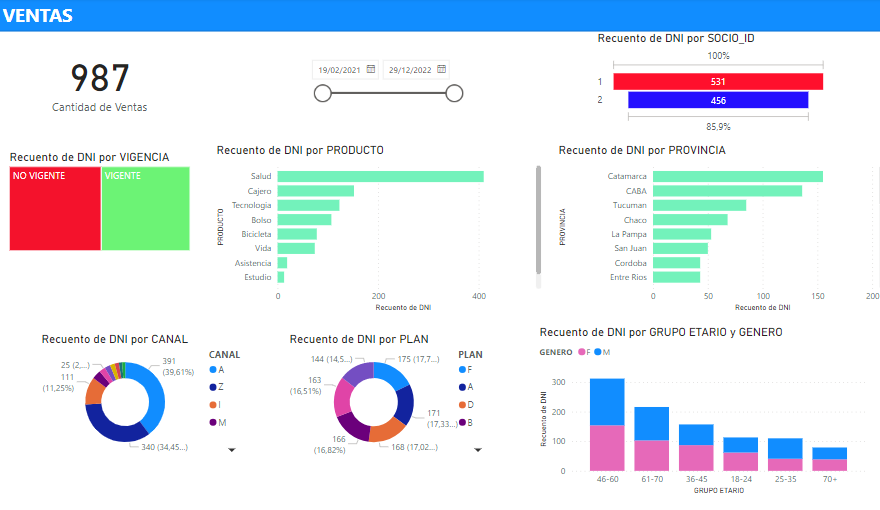

The dashboard page shown, as its layout file describes it:
{"tool":"powerbi","page":{"name":"Venta","canvas":[1280,720],"ordinal":0},"visuals":[{"type":"card","fields":{"Values":["CountNonNull(VENTA.DNI)"]},"box":[10.1,0,270.4,129.3],"z":0},{"type":"funnel","fields":{"Category":["VENTA.SOCIO_ID"],"Y":["CountNonNull(VENTA.DNI)"]},"box":[476.6,13,275,142.6],"z":1},{"type":"treemap","fields":{"Group":["VENTA.VIGENCIA"],"Values":["CountNonNull(VENTA.DNI)"]},"box":[10,218.5,270,150],"z":2},{"type":"donutChart","fields":{"Category":["VENTA.CANAL"],"Y":["CountNonNull(VENTA.DNI)"]},"box":[51.8,470.9,270.7,151.2],"z":3},{"type":"donutChart","fields":{"Category":["VENTA.PLAN"],"Y":["CountNonNull(VENTA.DNI)"]},"box":[380.2,470.9,270.7,151.2],"z":4},{"type":"clusteredBarChart","fields":{"Category":["VENTA.PRODUCTO"],"Y":["CountNonNull(VENTA.DNI)"]},"box":[339.3,169.7,478.7,248.6],"z":5},{"type":"slicer","fields":{"Values":["BAJA.FECHA_BAJA"]},"box":[901.4,20.2,279.4,89.3],"z":6},{"type":"clusteredBarChart","fields":{"Category":["VENTA.PROVINCIA"],"Y":["CountNonNull(VENTA.DNI)"]},"box":[801.3,169.7,478.7,248.6],"z":7},{"type":"columnChart","fields":{"Category":["VENTA.GRUPO ETARIO"],"Y":["CountNonNull(VENTA.DNI)"],"Series":["VENTA.GENERO"]},"box":[740.2,433.4,479.5,249.1],"z":8}]}

Visuals, with their boxes in screenshot pixels (x1, y1, x2, y2), scaled from the page's 1280x720 canvas onto the 880x510 screenshot:
card - CountNonNull(VENTA.DNI): 7 0 193 92
funnel - VENTA.SOCIO_ID x CountNonNull(VENTA.DNI): 328 9 517 110
treemap - VENTA.VIGENCIA x CountNonNull(VENTA.DNI): 7 155 192 261
donutChart - VENTA.CANAL x CountNonNull(VENTA.DNI): 36 334 222 441
donutChart - VENTA.PLAN x CountNonNull(VENTA.DNI): 261 334 447 441
clusteredBarChart - VENTA.PRODUCTO x CountNonNull(VENTA.DNI): 233 120 562 296
slicer - BAJA.FECHA_BAJA: 620 14 812 78
clusteredBarChart - VENTA.PROVINCIA x CountNonNull(VENTA.DNI): 551 120 879 296
columnChart - VENTA.GRUPO ETARIO x CountNonNull(VENTA.DNI): 509 307 839 483
